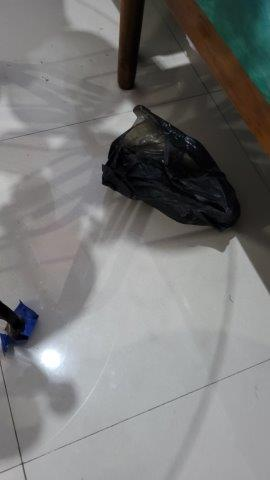plastik: (102, 104, 244, 230)
